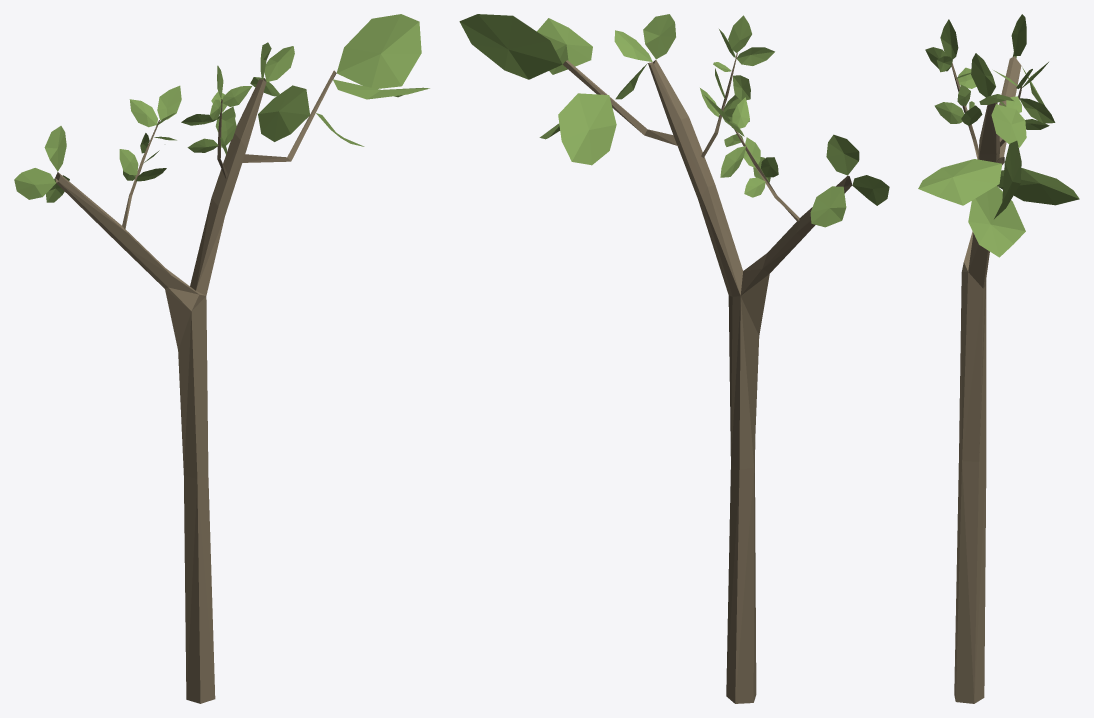
The model's file is Cherry_1_2.fbx.
3 views of the same model, side by side, from view 1: azimuth 30°, elevation 25°; view 2: azimuth 150°, elevation 25°; view 3: azimuth 270°, elevation 25° (orthographic). The views are drawn at different scales.
Visible parts, largest first — view 1: Cherry_1_2; view 2: Cherry_1_2; view 3: Cherry_1_2.
Boxes of the visible parts, box(x1,y1,x2,y2) form: Cherry_1_2: box(14, 14, 429, 703); Cherry_1_2: box(459, 14, 889, 703); Cherry_1_2: box(918, 14, 1079, 703).
Size of the model in its own units: 85.17 by 128 by 27.41.
